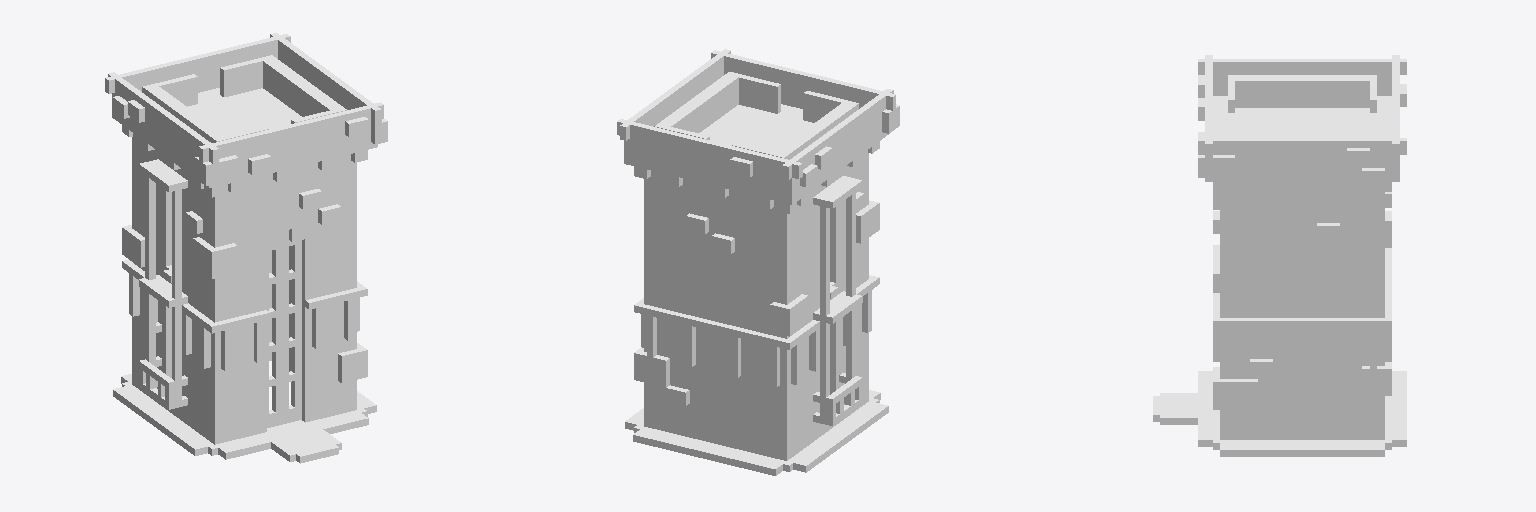
Rendered from SmallBuilding01.obj.
The picture shows the model from 3 angles: view 1: azimuth 30°, elevation 25°; view 2: azimuth 150°, elevation 25°; view 3: azimuth 270°, elevation 25°; orthographic projection.
Parts seen in each view (by area): view 1: object 1; view 2: object 1; view 3: object 1.
Part boxes in pixels (left/top/right/bottom): object 1: left=105, top=33, right=387, bottom=463; object 1: left=617, top=49, right=899, bottom=475; object 1: left=1153, top=55, right=1406, bottom=456.
Size of the model in its own units: 2.8 by 4.6 by 3.4.